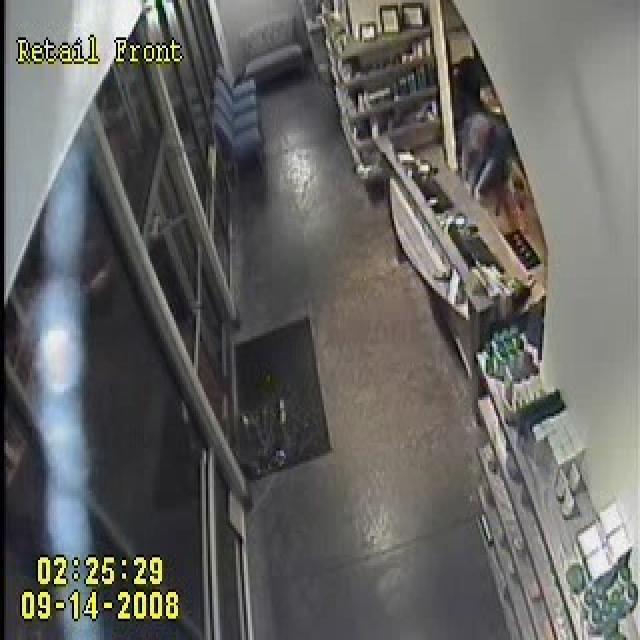thief: (442, 90, 524, 210)
